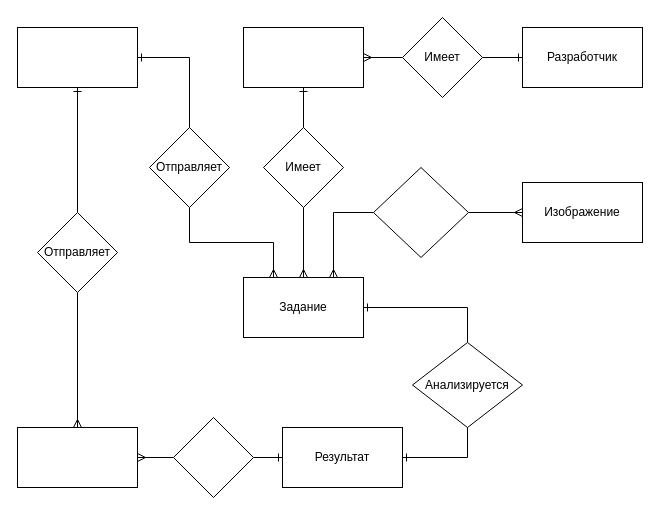
The diagram is 660 pixels wide and 515 high, and some of its shapes have lost their labels. The shapes that lost their labels are listed below. From the top down, each one's centre as x and y in pixels, then its label:
At point 77,57: "Пользователь".
At point 303,57: "Модель".
At point 420,212: "Используется".
At point 77,457: "Фидбэк".
At point 213,457: "Получает".
